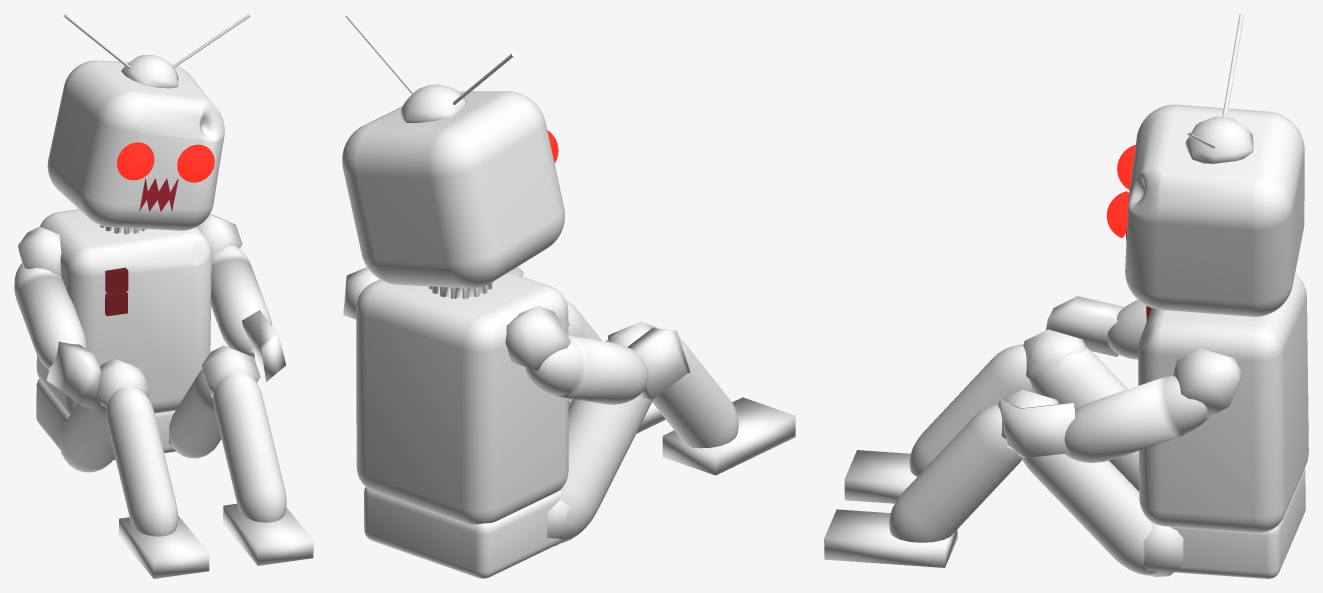
The model's file is robert.glb.
3 renders of one model, left to right at view 1: azimuth 30°, elevation 25°; view 2: azimuth 150°, elevation 25°; view 3: azimuth 270°, elevation 25°, orthographic. The views are drawn at different scales.
Parts seen in each view (by area): view 1: Cube.002, robot, Sphere.005, læg2, læg1, fødder, hands, lår2, lår1, eyes, nummi, Sphere.006 (+7 smaller); view 2: robot, Cube.002, nummi, lår2, Sphere.005, fødder, læg1, Sphere.006, hands, hoveddims, Sphere.002, Cylinder.004 (+4 smaller); view 3: Cube.002, robot, Sphere.005, læg2, fødder, lår1, hands, nummi, læg1, lår2, Sphere.002, hoveddims (+5 smaller).
Boxes of the visible parts, box(x1,y1,x2,y2) form: Cube.002: box(47, 60, 224, 230); robot: box(36, 209, 211, 415); Sphere.005: box(14, 246, 272, 369); læg2: box(213, 372, 286, 522); læg1: box(106, 386, 177, 536); fødder: box(118, 503, 313, 578); hands: box(46, 310, 286, 409); lår2: box(59, 362, 148, 472); lår1: box(169, 368, 221, 458); eyes: box(117, 142, 214, 182); nummi: box(36, 379, 176, 460); Sphere.006: box(18, 226, 61, 276); robot: box(356, 272, 568, 524); Cube.002: box(342, 91, 564, 288); nummi: box(364, 487, 561, 578); lår2: box(560, 330, 653, 543); Sphere.005: box(525, 335, 648, 404); fødder: box(568, 397, 795, 475); læg1: box(652, 337, 738, 448); Sphere.006: box(505, 305, 570, 371); hands: box(509, 266, 690, 399); hoveddims: box(399, 84, 467, 122); Sphere.002: box(343, 267, 379, 319); Cylinder.004: box(345, 14, 514, 104); Cube.002: box(1125, 104, 1304, 316); robot: box(1138, 274, 1308, 532); Sphere.005: box(1064, 300, 1208, 462); læg2: box(889, 404, 1021, 542); fødder: box(824, 450, 957, 567); lår1: box(1021, 454, 1156, 575); hands: box(1000, 296, 1124, 457); nummi: box(1169, 468, 1305, 578); læg1: box(909, 344, 1034, 476); lår2: box(1028, 340, 1139, 491); Sphere.002: box(1173, 348, 1242, 417); hoveddims: box(1185, 116, 1253, 163).
Bounding box in the file's own units: 2.71 × 4.73 × 4.07.
